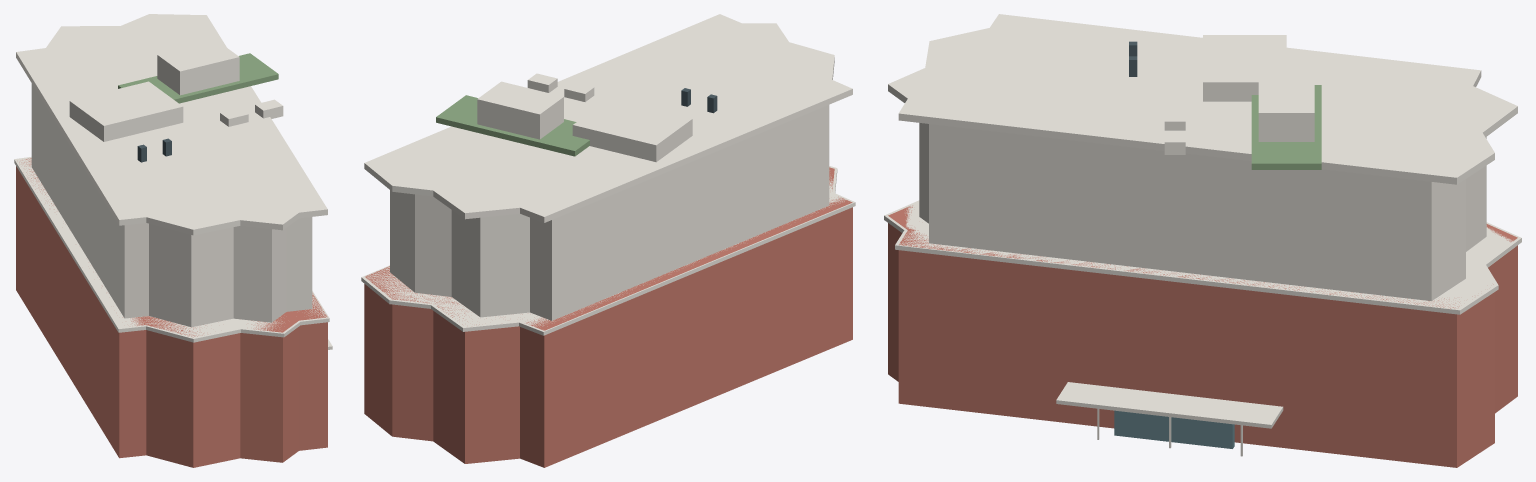
Rendered from lui_che_woo_building.glb.
3 views of the same model, side by side, from view 1: azimuth 30°, elevation 25°; view 2: azimuth 150°, elevation 25°; view 3: azimuth 270°, elevation 25° (orthographic). The views are drawn at different scales.
Parts seen in each view (by area): view 1: Lui Che Woo Building_base, Lui Che Woo Building_parapet, Lui Che Woo Building_upper, Lui Che Woo Building_band, Lui Che Woo Building_roof_plant, Lui Che Woo Building_pavilion, Lui Che Woo Building_garden, Lui Che Woo Building_ac_1, Lui Che Woo Building_ac_0; view 2: Lui Che Woo Building_base, Lui Che Woo Building_upper, Lui Che Woo Building_parapet, Lui Che Woo Building_band, Lui Che Woo Building_roof_plant, Lui Che Woo Building_pavilion, Lui Che Woo Building_garden; view 3: Lui Che Woo Building_base, Lui Che Woo Building_upper, Lui Che Woo Building_parapet, Lui Che Woo Building_band, Lui Che Woo Building_canopy, Lui Che Woo Building_roof_plant, Lui Che Woo Building_pavilion, Lui Che Woo Building_door, Lui Che Woo Building_garden.
Part boxes in pixels (x1,y1,x2,y2): Lui Che Woo Building_base: [16, 158, 327, 467]; Lui Che Woo Building_parapet: [16, 14, 327, 235]; Lui Che Woo Building_upper: [31, 83, 312, 327]; Lui Che Woo Building_band: [14, 157, 329, 342]; Lui Che Woo Building_roof_plant: [69, 81, 183, 141]; Lui Che Woo Building_pavilion: [157, 40, 239, 95]; Lui Che Woo Building_garden: [118, 53, 278, 103]; Lui Che Woo Building_ac_1: [255, 99, 283, 118]; Lui Che Woo Building_ac_0: [220, 108, 248, 126]; Lui Che Woo Building_base: [364, 167, 852, 467]; Lui Che Woo Building_upper: [390, 105, 829, 320]; Lui Che Woo Building_parapet: [364, 14, 852, 222]; Lui Che Woo Building_band: [361, 166, 855, 335]; Lui Che Woo Building_roof_plant: [572, 98, 692, 162]; Lui Che Woo Building_pavilion: [477, 81, 563, 139]; Lui Che Woo Building_garden: [436, 95, 589, 156]; Lui Che Woo Building_base: [888, 205, 1517, 467]; Lui Che Woo Building_upper: [919, 123, 1486, 300]; Lui Che Woo Building_parapet: [888, 14, 1517, 184]; Lui Che Woo Building_band: [884, 200, 1521, 314]; Lui Che Woo Building_canopy: [1056, 382, 1283, 428]; Lui Che Woo Building_roof_plant: [1203, 35, 1286, 101]; Lui Che Woo Building_pavilion: [1258, 77, 1314, 141]; Lui Che Woo Building_door: [1114, 410, 1234, 448]; Lui Che Woo Building_garden: [1251, 85, 1321, 169].
Size of the model in its own units: 28.27 by 25.8 by 45.71.
